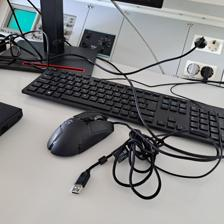mouse: (44, 111, 114, 159)
